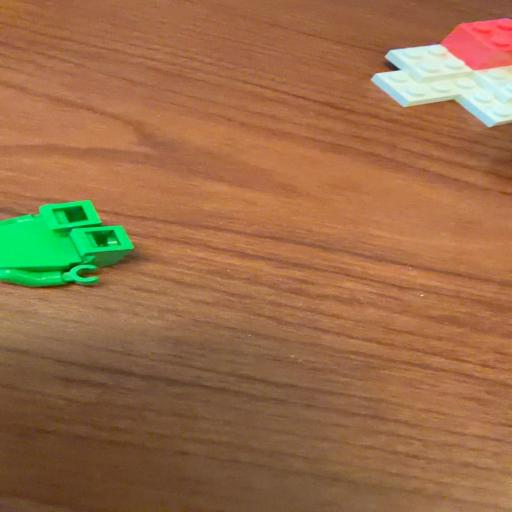UnoQ-minifig-detector: (0, 200, 134, 287)
